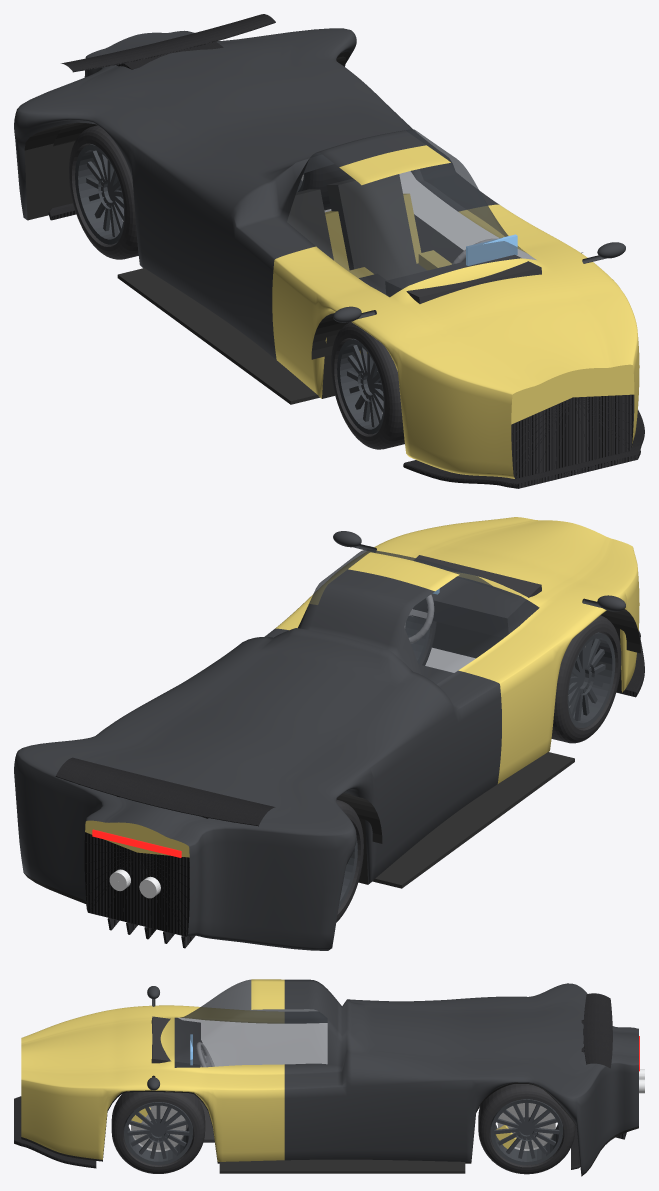
The model's file is bugatti-w16-mistral.glb.
3 views of the same model, one above another, from view 1: azimuth 30°, elevation 25°; view 2: azimuth 150°, elevation 25°; view 3: azimuth 270°, elevation 25° (orthographic). The views are drawn at different scales.
Parts seen in each view (by area): view 1: Body_PrimaryPaint, Body_SecondaryPaint, Glass_Windows, Carbon_Exterior, Interior_Seats, WheelWells, Underbody, Rim_RR, Tire_FR, Rim_FR, Tire_RR, Interior_Dashboard (+3 smaller); view 2: Body_PrimaryPaint, Body_SecondaryPaint, Carbon_Exterior, Glass_Windows, WheelWells, Interior_Dashboard, Rim_FR, Tire_FR, Underbody, Tire_RR, Chrome_Trim, Lights_Rear (+1 smaller); view 3: Body_PrimaryPaint, Body_SecondaryPaint, Glass_Windows, WheelWells, Carbon_Exterior, Tire_FL, Tire_RL, Rim_RL, Rim_FL, Interior_Dashboard, Underbody, BrakeDisc_RL (+2 smaller).
Part boxes in pixels (<box>): Body_PrimaryPaint: <box>14,28,625,359</box>; Body_SecondaryPaint: <box>272,145,639,478</box>; Glass_Windows: <box>287,129,535,296</box>; Carbon_Exterior: <box>48,14,644,488</box>; Interior_Seats: <box>287,174,426,280</box>; WheelWells: <box>53,122,582,404</box>; Underbody: <box>24,52,350,398</box>; Rim_RR: <box>75,144,124,244</box>; Tire_FR: <box>331,322,404,449</box>; Rim_FR: <box>337,338,384,434</box>; Tire_RR: <box>69,125,138,259</box>; Interior_Dashboard: <box>385,255,541,303</box>; Body_PrimaryPaint: <box>14,531,625,950</box>; Body_SecondaryPaint: <box>85,517,639,857</box>; Carbon_Exterior: <box>55,630,644,948</box>; Glass_Windows: <box>303,549,539,684</box>; WheelWells: <box>336,546,640,888</box>; Interior_Dashboard: <box>412,555,541,637</box>; Rim_FR: <box>567,632,615,727</box>; Tire_FR: <box>551,615,621,743</box>; Underbody: <box>24,622,621,936</box>; Tire_RR: <box>336,799,363,922</box>; Chrome_Trim: <box>109,869,160,898</box>; Lights_Rear: <box>92,829,181,857</box>; Body_PrimaryPaint: <box>147,979,638,1174</box>; Body_SecondaryPaint: <box>21,979,284,1161</box>; Glass_Windows: <box>174,979,327,1067</box>; WheelWells: <box>219,1159,465,1173</box>; Carbon_Exterior: <box>14,993,626,1169</box>; Tire_FL: <box>111,1092,205,1173</box>; Tire_RL: <box>478,1084,575,1174</box>; Rim_RL: <box>490,1099,562,1165</box>; Rim_FL: <box>124,1102,192,1164</box>; Interior_Dashboard: <box>151,1016,200,1067</box>; Underbody: <box>21,1082,638,1176</box>; BrakeDisc_RL: <box>497,1103,555,1150</box>.
Bounding box in the file's own units: 2.05 × 1.15 × 4.64.
17 materials, 2 textured.
